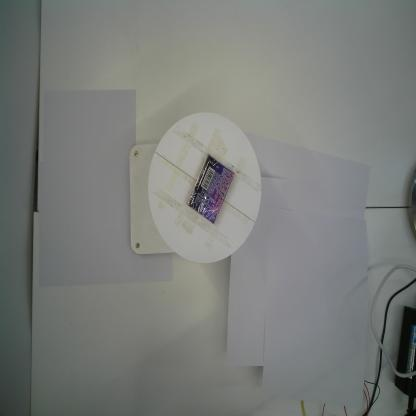Gum: (186, 153, 235, 226)
